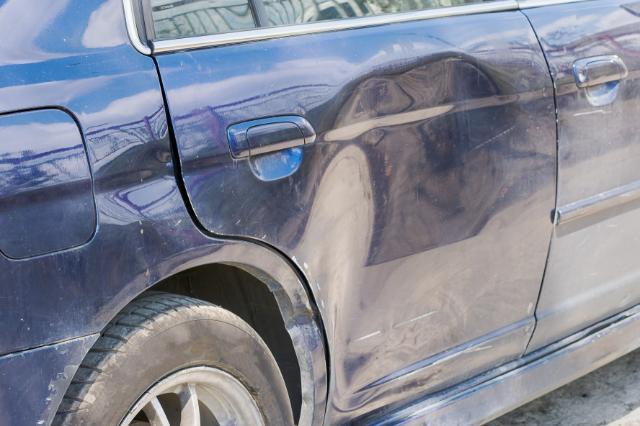Door: (200, 22, 624, 331)
